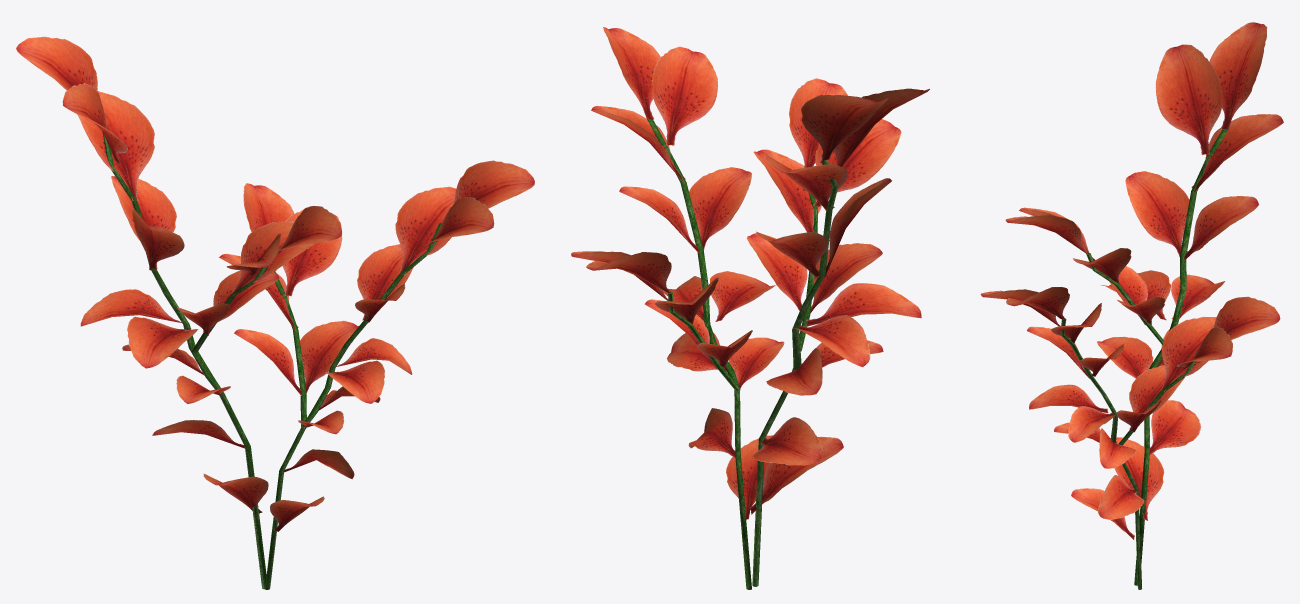
File: plant m2.dae
The picture shows the model from 3 angles, left to right: view 1: azimuth 30°, elevation 25°; view 2: azimuth 150°, elevation 25°; view 3: azimuth 270°, elevation 25°; orthographic projection. The views are drawn at different scales.
Visible parts, largest first — view 1: plant_m2_Form26, plant_m2_Group4_Form29, plant_m2_Shape0, plant_m2_Group4_Form28; view 2: plant_m2_Form26, plant_m2_Group4_Form29, plant_m2_Shape0, plant_m2_Group4_Form28; view 3: plant_m2_Form26, plant_m2_Group4_Form29, plant_m2_Shape0, plant_m2_Group4_Form28.
Boxes of the visible parts, bbox=[...] form: plant_m2_Form26: bbox=[16, 36, 412, 531]; plant_m2_Group4_Form29: bbox=[177, 160, 534, 395]; plant_m2_Shape0: bbox=[102, 132, 349, 589]; plant_m2_Group4_Form28: bbox=[191, 223, 441, 428]; plant_m2_Form26: bbox=[663, 88, 929, 519]; plant_m2_Group4_Form29: bbox=[571, 27, 901, 369]; plant_m2_Shape0: bbox=[702, 159, 838, 589]; plant_m2_Group4_Form28: bbox=[647, 118, 817, 390]; plant_m2_Form26: bbox=[1029, 22, 1283, 539]; plant_m2_Group4_Form29: bbox=[980, 207, 1280, 432]; plant_m2_Shape0: bbox=[1102, 128, 1227, 589]; plant_m2_Group4_Form28: bbox=[1060, 253, 1198, 445].
Size of the model in its own units: 46.39 by 61.16 by 34.79.
2 materials, 2 textured.
